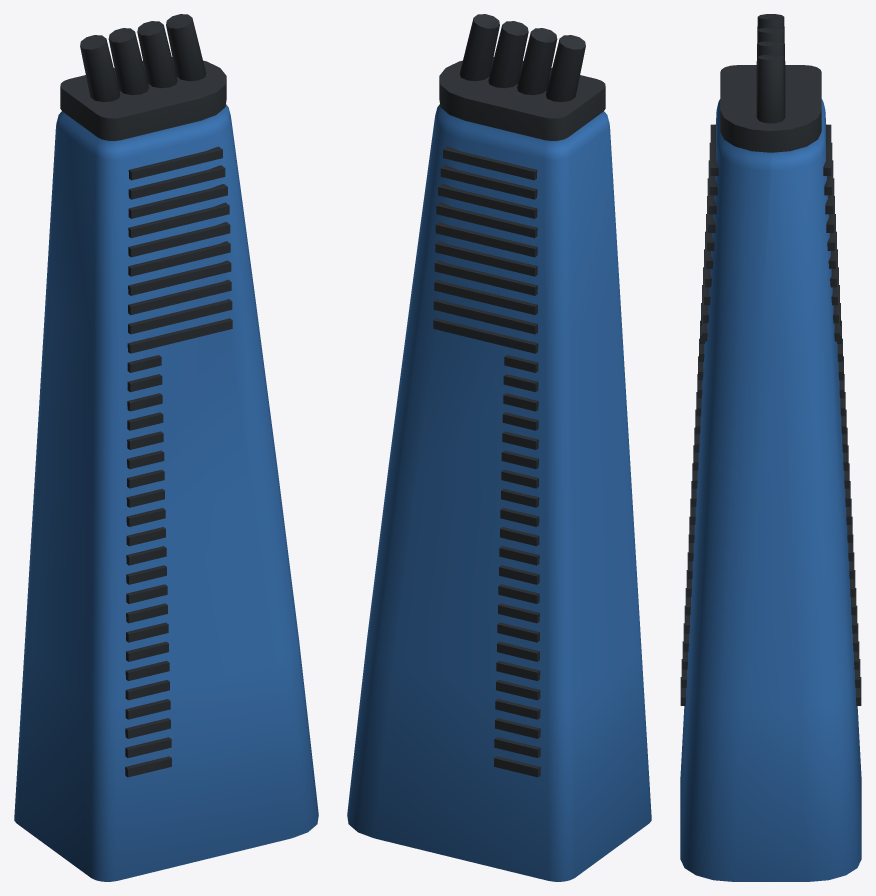
File: funnel-modern.glb
3 views of the same model, side by side, from view 1: azimuth 30°, elevation 25°; view 2: azimuth 150°, elevation 25°; view 3: azimuth 270°, elevation 25° (orthographic). The views are drawn at different scales.
Parts seen in each view (by area): view 1: body, grille; view 2: body, grille; view 3: body, grille.
Part boxes in pixels (x1,y1,x2,y2): body: (14, 104, 318, 881); grille: (60, 14, 232, 777); body: (347, 104, 651, 881); grille: (433, 14, 605, 777); body: (680, 99, 861, 881); grille: (680, 14, 861, 705).
Bounding box in the file's own units: 1 × 3.21 × 0.68.
